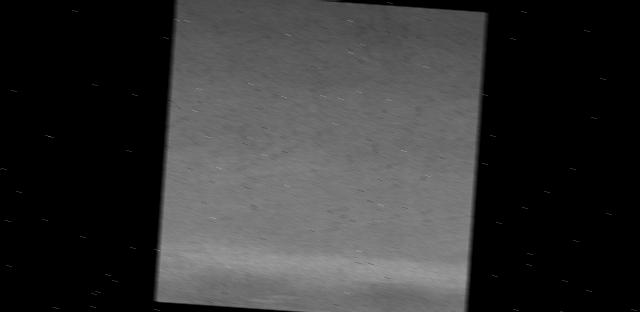silk_spot: (241, 36, 462, 244)
